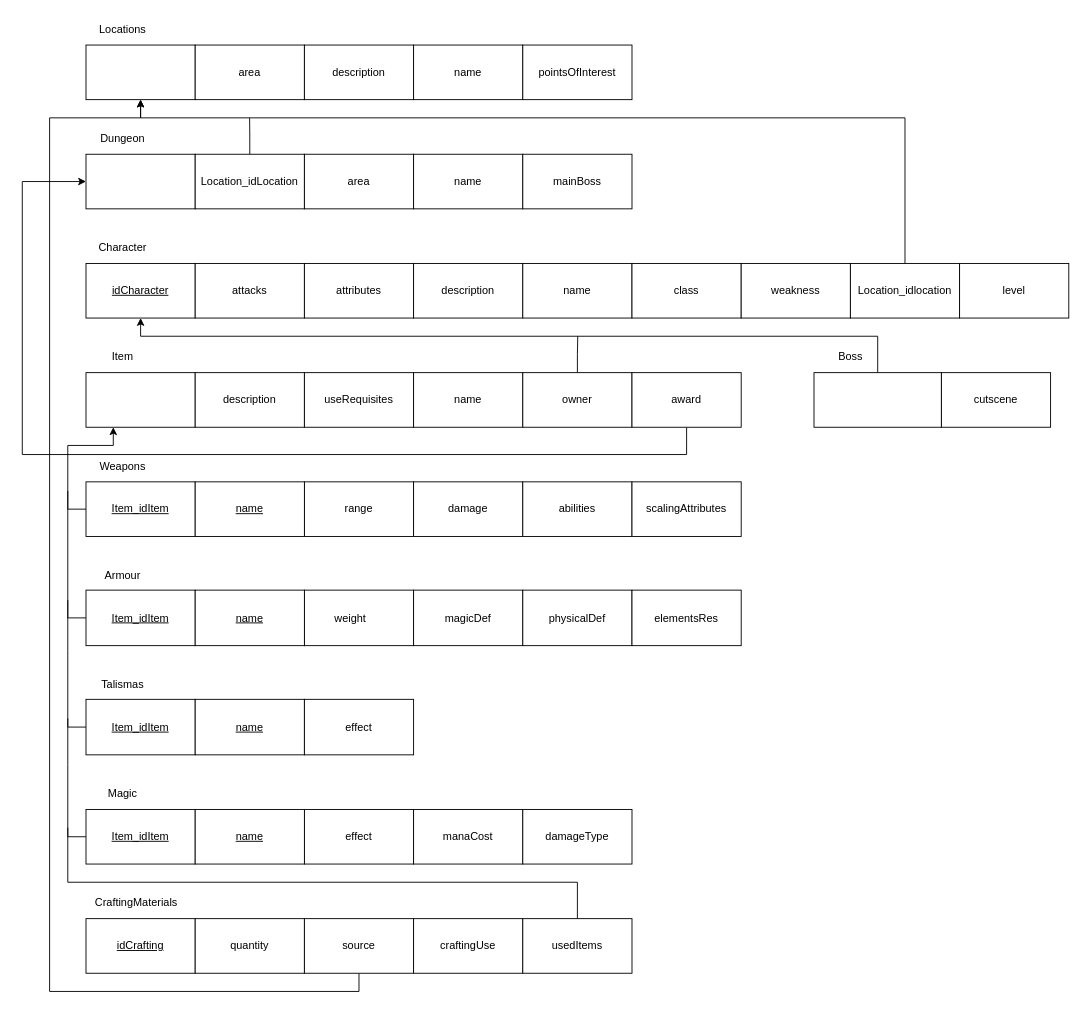
Some shapes in this 1085 by 1015 pixel diagram are drawn without their labels. The centre of each missing label's shape, as x and y in pixels:
Character_idCharacter: the point at 877,399
idDungeon: the point at 140,181
idItem: the point at 140,399
idLocation: the point at 140,72
